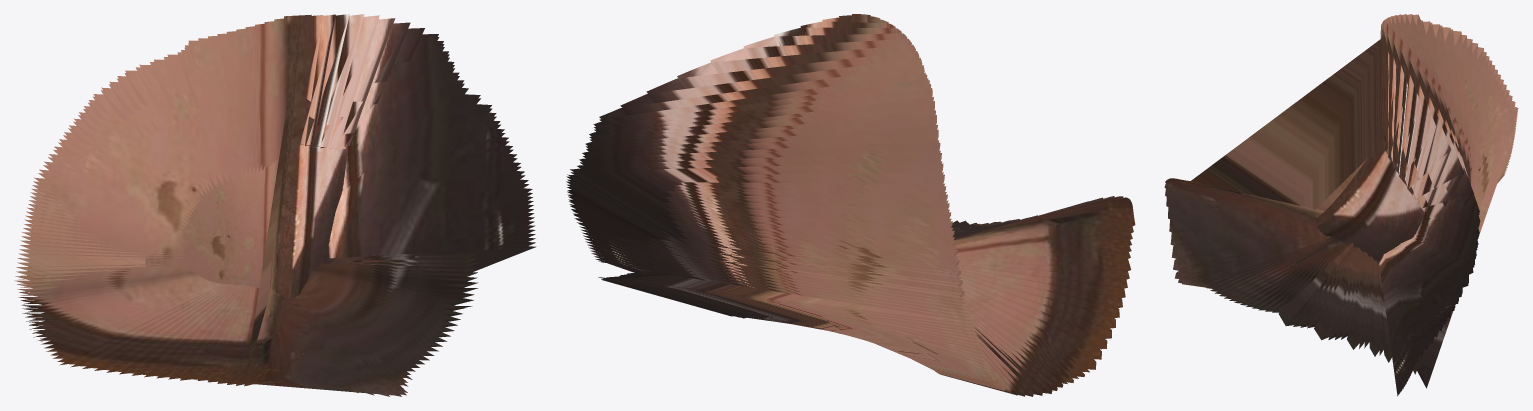
The model's file is large_corridor.glb.
3 renders of one model, left to right at view 1: azimuth 30°, elevation 25°; view 2: azimuth 150°, elevation 25°; view 3: azimuth 270°, elevation 25°, orthographic. The views are drawn at different scales.
Parts seen in each view (by area): view 1: furniture_00; view 2: furniture_00; view 3: furniture_00.
Part boxes in pixels (box(x1,y1,x2,y2)): furniture_00: box(14, 14, 536, 396); furniture_00: box(566, 14, 1135, 396); furniture_00: box(1164, 14, 1518, 396).
Bounding box in the file's own units: 0.9048 × 0.5556 × 0.6517.
1 material, 1 textured.
